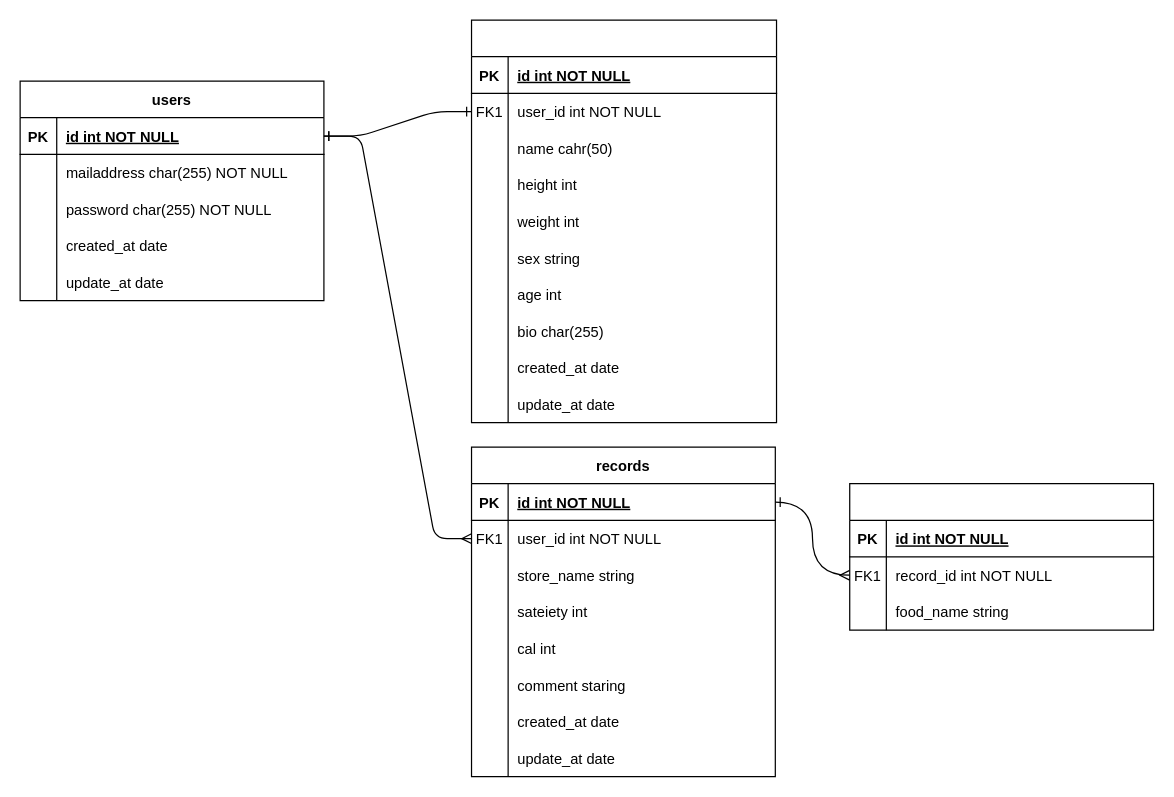
Some shapes in this 1174 by 797 pixel diagram are drawn without their labels. Each missing label, with the box of its shape:
foods: (849, 483, 1154, 630)
user_detail: (470, 19, 777, 423)
